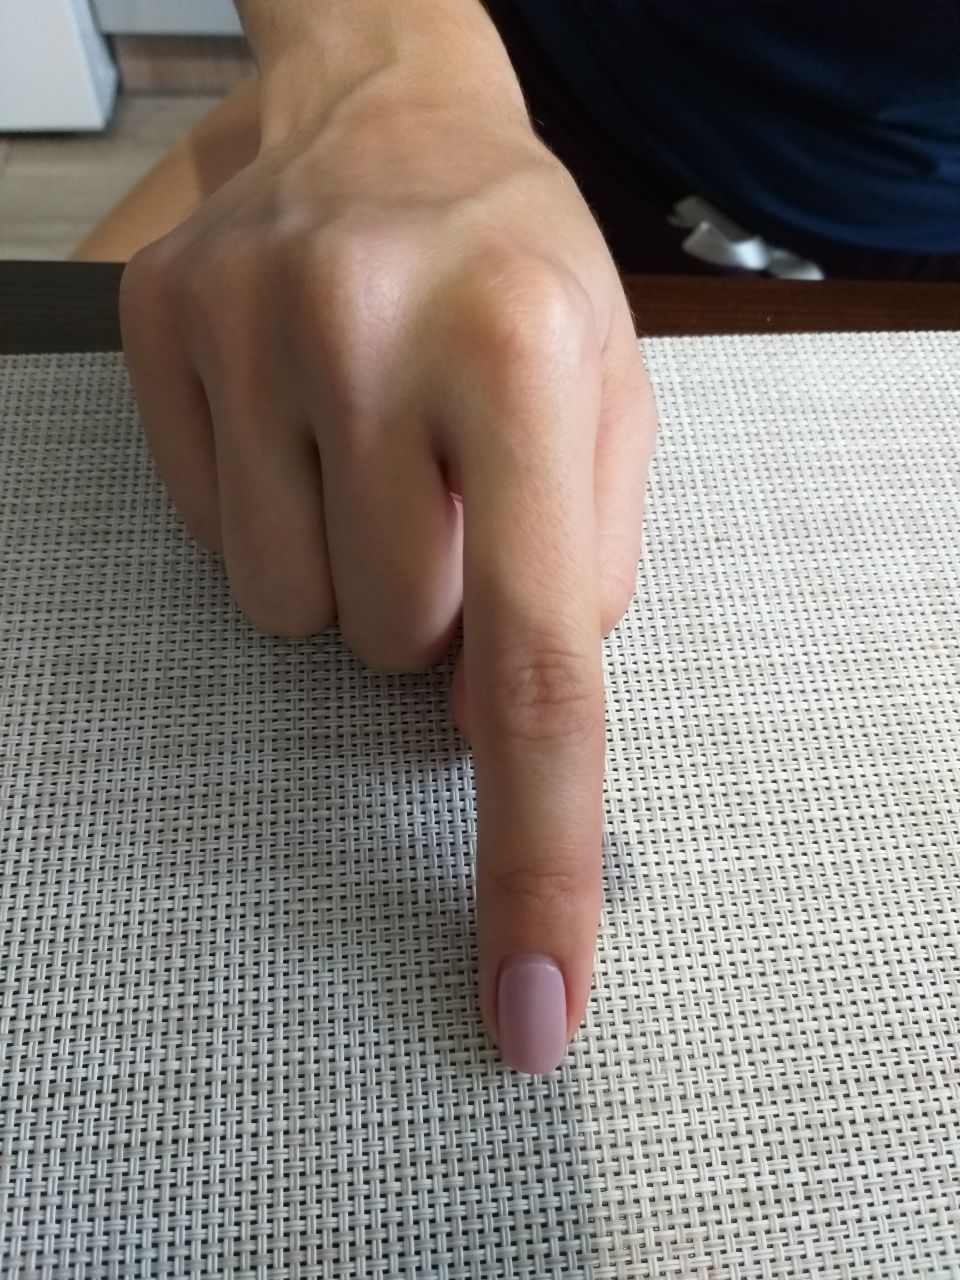finger: (481, 912, 594, 1070)
